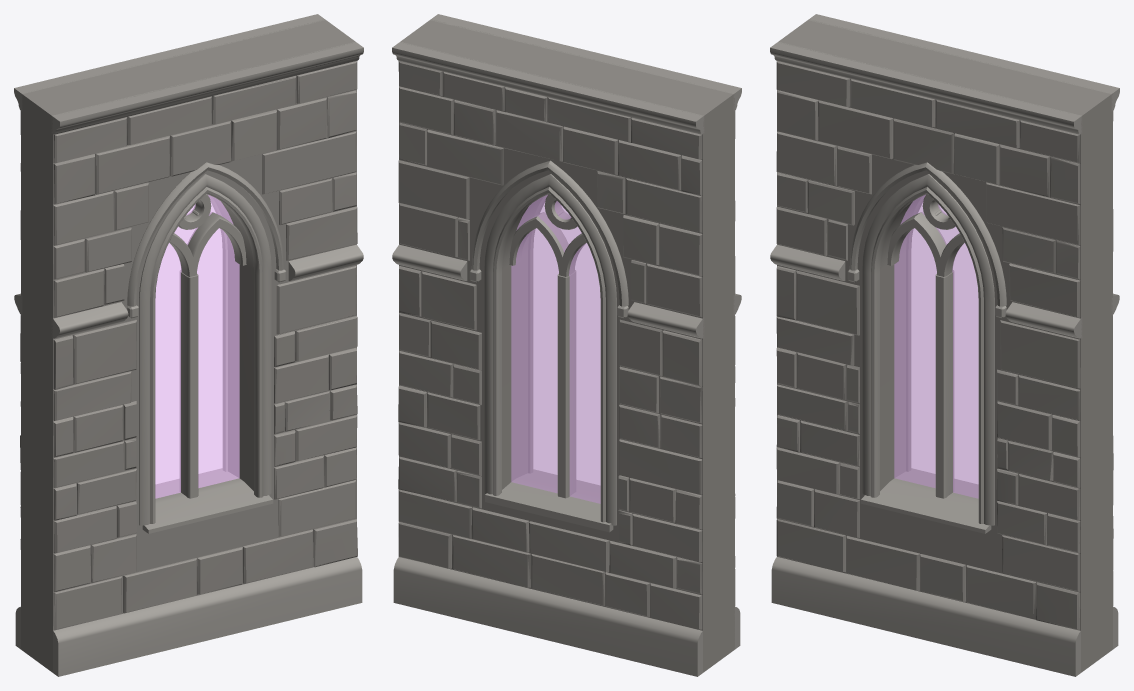
The model's file is wall_window_lancet.glb.
3 renders of one model, left to right at view 1: azimuth 30°, elevation 25°; view 2: azimuth 150°, elevation 25°; view 3: azimuth 330°, elevation 25°, orthographic.
Parts seen in each view (by area): view 1: wall_window_lancet, window_glass; view 2: wall_window_lancet, window_glass; view 3: wall_window_lancet, window_glass.
Boxes of the visible parts, box(x1,y1,x2,y2) form: wall_window_lancet: box(14, 14, 363, 676); window_glass: box(155, 195, 239, 498); wall_window_lancet: box(392, 14, 741, 676); window_glass: box(511, 195, 600, 503); wall_window_lancet: box(770, 14, 1119, 676); window_glass: box(894, 195, 978, 498).
Size of the model in its own units: 4 by 7 by 1.05.
